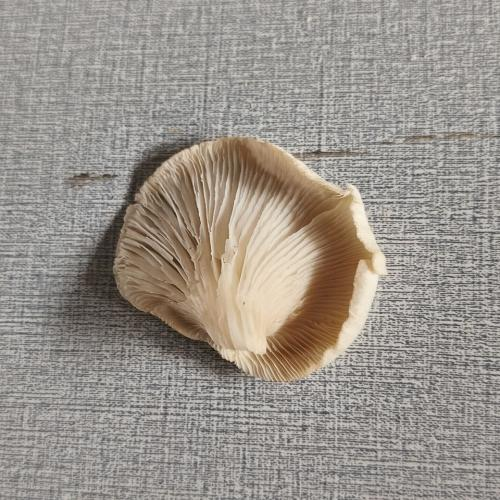Oyster Mushroom: (87, 99, 418, 410)
